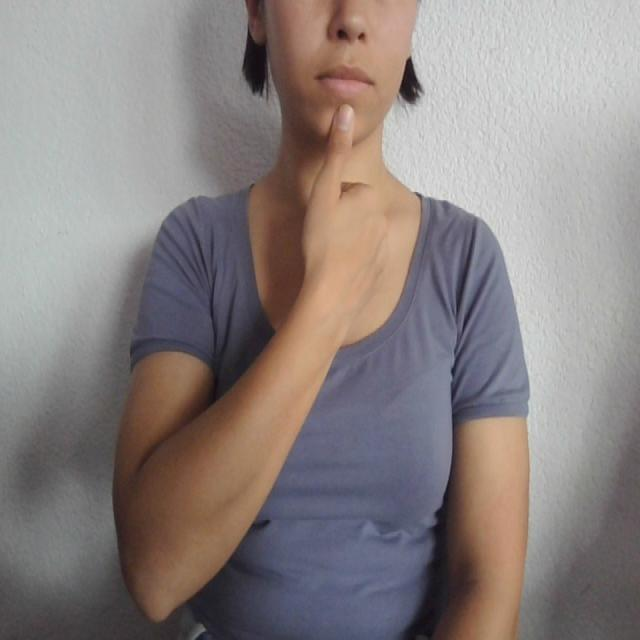Baba: (314, 49, 392, 179)
